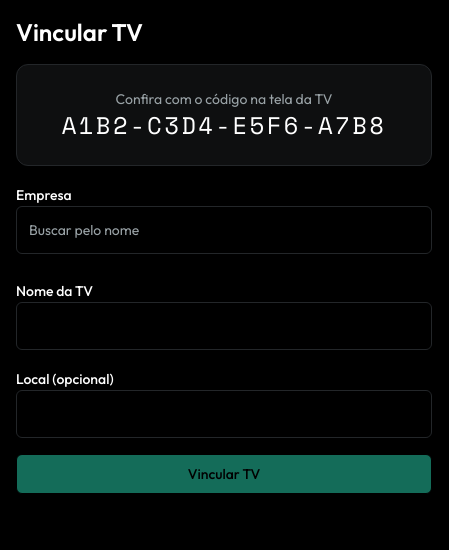
ParearView › 409 troca para "já vinculada"
The image size is (449, 550).
Type "pad" into the field labelled "Empresa" at coordinates (224, 230), box [16, 206, 432, 254]
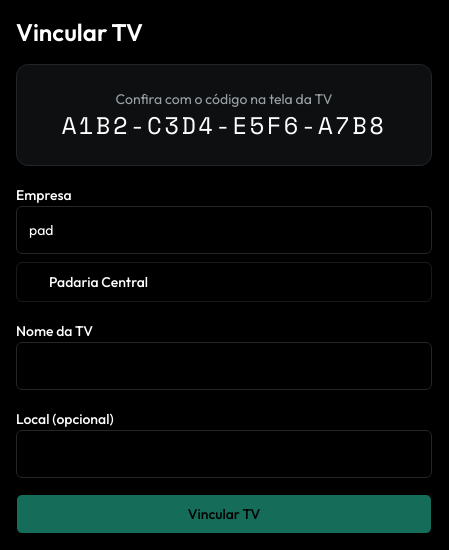
Click the button "Padaria Central" at coordinates (99, 282), box [16, 262, 432, 302]
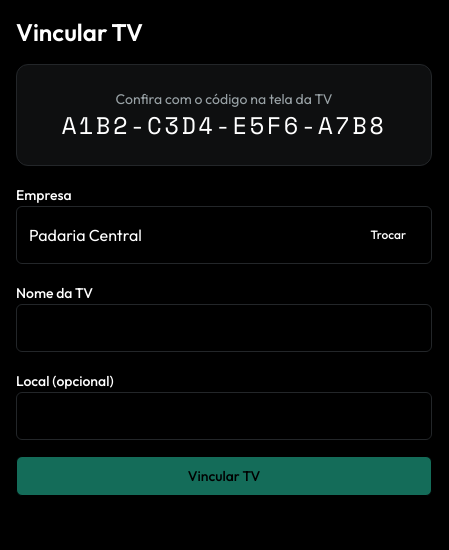
Type "TV" into the field labelled "Nome da TV" at coordinates (224, 328), box [16, 304, 432, 352]
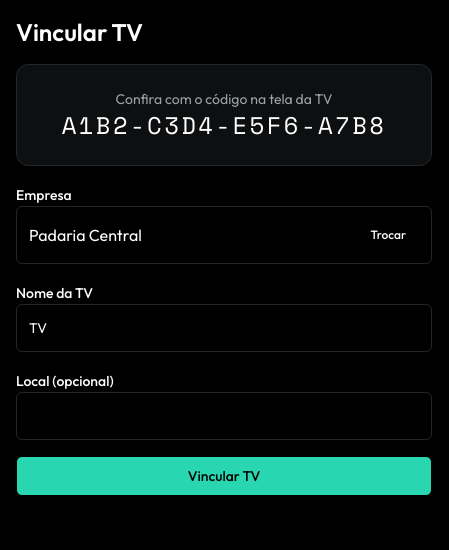
Click the button "Vincular TV" at coordinates (224, 476), box [16, 456, 432, 496]
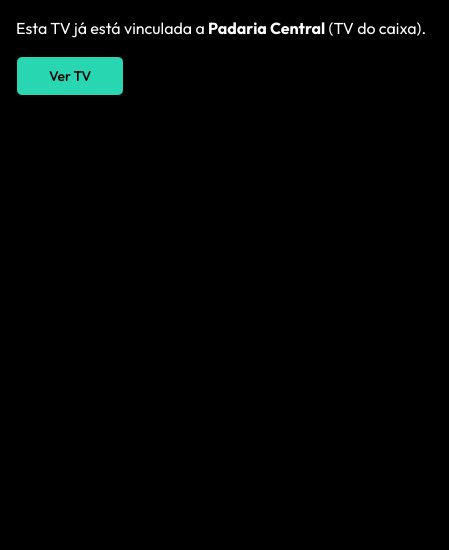
Expected: the text "Esta TV já está vinculada a Padaria Central (TV do caixa)." is shown, [16, 16, 432, 40]
